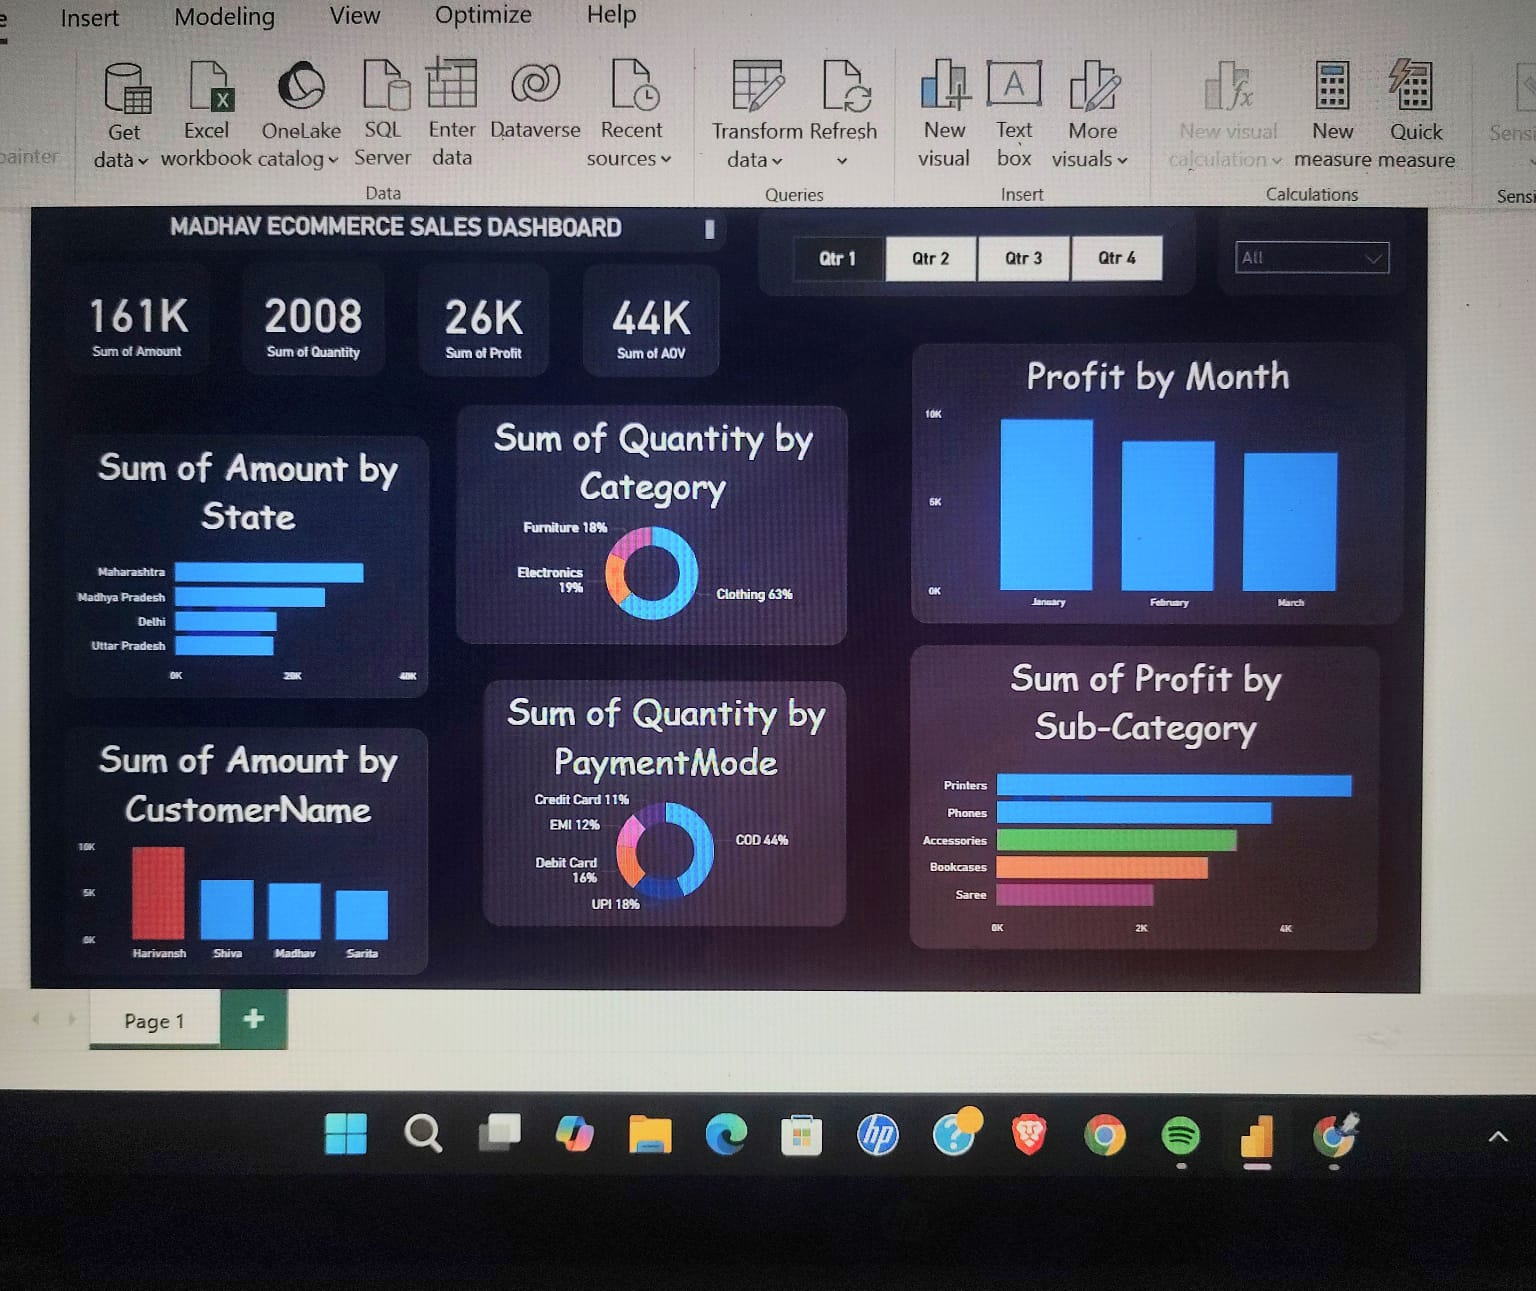

This screenshot's page, from the dashboard's own definition file:
{"tool":"powerbi","page":{"name":"Page 1","canvas":[1280,720],"ordinal":0},"visuals":[{"type":"textbox","box":[9.6,0,630.4,40.5],"z":0},{"type":"clusteredColumnChart","title":"Profit by  Month","fields":{"Y":["Details.Profit"],"Category":["Orders.Order Date.Variation.Date Hierarchy.Month"]},"box":[811.6,123.4,449.2,256.4],"z":1000},{"type":"barChart","fields":{"Category":["Details.Sub-Category"],"Y":["Details.Profit"]},"box":[811.6,401,429.9,279.5],"z":1001},{"type":"donutChart","fields":{"Category":["Details.Category"],"Y":["Details.Quantity"]},"box":[392.9,181.3,359.5,219.5],"z":1002},{"type":"donutChart","fields":{"Y":["Details.Quantity","select"],"Category":["Details.PaymentMode"]},"box":[418.3,434.2,334,225.9],"z":1003},{"type":"card","fields":{"Values":["Details.Amount"]},"box":[32.8,52,133,102.2],"z":1004},{"type":"card","fields":{"Values":["Details.Quantity"]},"box":[196.6,52,129.2,102.2],"z":1005},{"type":"card","fields":{"Values":["Details.Profit"]},"box":[358.6,52,119.5,102.2],"z":1006},{"type":"card","fields":{"Values":["Details.AOV"]},"box":[508.9,52,125.3,102.2],"z":1007},{"type":"barChart","fields":{"Y":["Details.Amount"],"Category":["Orders.State"]},"box":[32.8,210.1,333.5,241],"z":1008},{"type":"columnChart","fields":{"Category":["Orders.CustomerName"],"Y":["Details.Amount"]},"box":[32.8,478.1,333.5,227.5],"z":1009},{"type":"slicer","fields":{"Values":["Orders.Order Date.Variation.Date Hierarchy.Quarter"]},"box":[668.9,0,399,81],"z":1010},{"type":"slicer","fields":{"Values":["Orders.State"]},"box":[1089.2,0,171.6,81],"z":1011}]}

Visuals, with their boxes on the page's 1280x720 design canvas (x1, y1, x2, y2). These are canvas units, not pixel positions in the 1536x1291 screenshot, which may show the page scaled, cropped or inside an application window:
textbox: (10,0,640,40)
"Profit by  Month" clusteredColumnChart: (812,123,1261,380)
barChart - Details.Sub-Category x Details.Profit: (812,401,1242,680)
donutChart - Details.Category x Details.Quantity: (393,181,752,401)
donutChart - Details.Quantity x select: (418,434,752,660)
card - Details.Amount: (33,52,166,154)
card - Details.Quantity: (197,52,326,154)
card - Details.Profit: (359,52,478,154)
card - Details.AOV: (509,52,634,154)
barChart - Details.Amount x Orders.State: (33,210,366,451)
columnChart - Orders.CustomerName x Details.Amount: (33,478,366,706)
slicer - Orders.Order Date.Variation.Date Hierarchy.Quarter: (669,0,1068,81)
slicer - Orders.State: (1089,0,1261,81)
